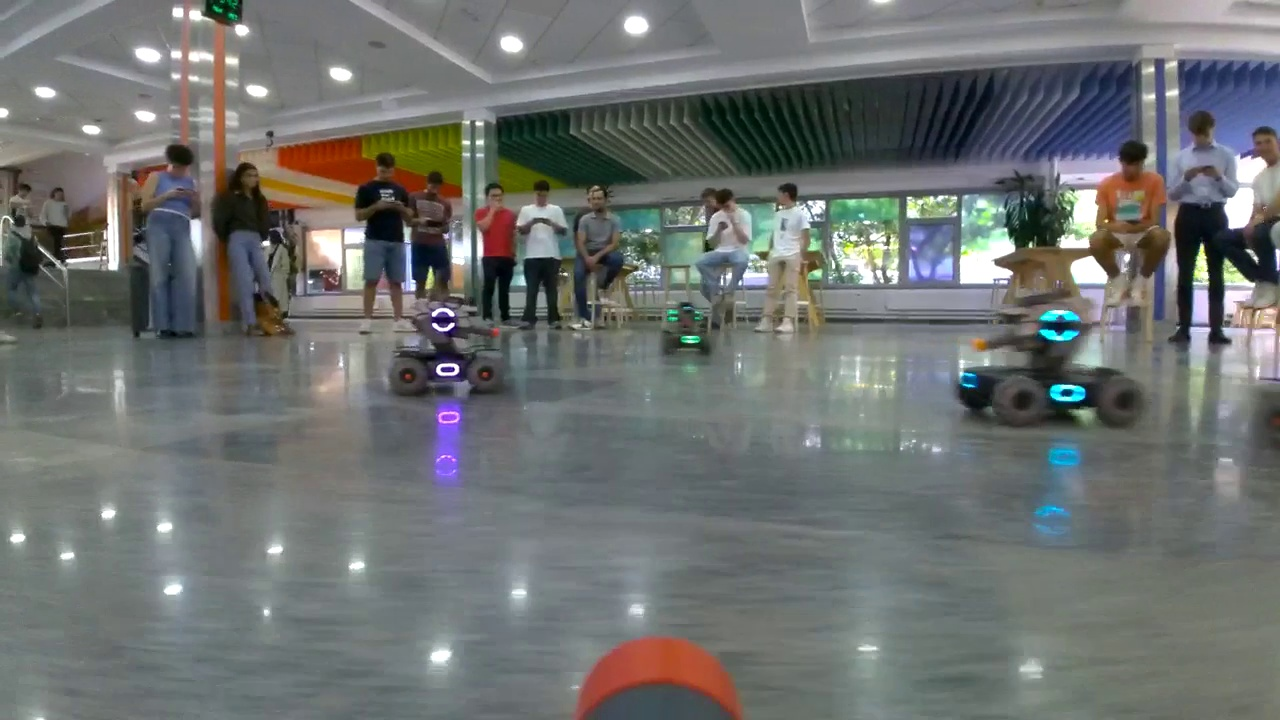robot: (958, 287, 1149, 427), (387, 300, 505, 393), (661, 305, 710, 356)
